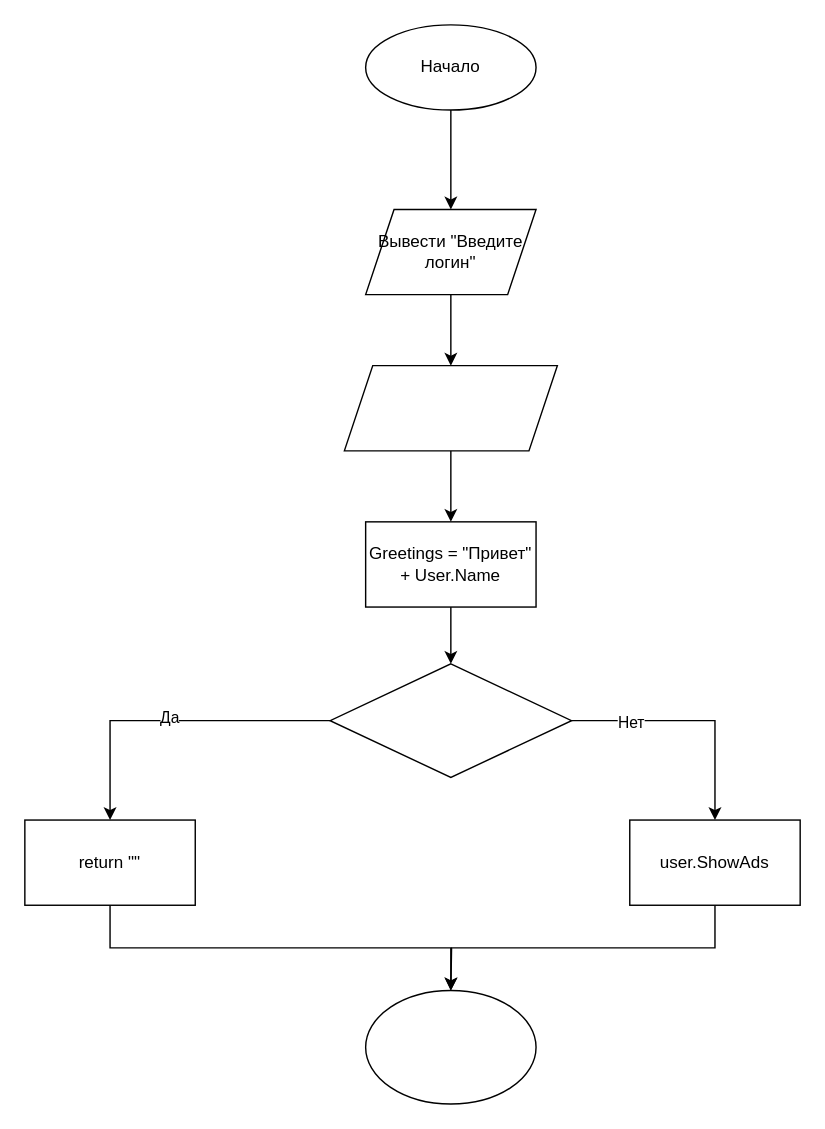
The diagram is 825 pixels wide and 1129 high, and some of its shapes have lost their labels. The shapes that lost their labels are listed below. From the top down, each one's centre as x and y in pixels, then its label:
At (450,407): "Считать User.Login".
At (450,719): "User.IsPremium == true?".
At (450,1046): "Конец".
